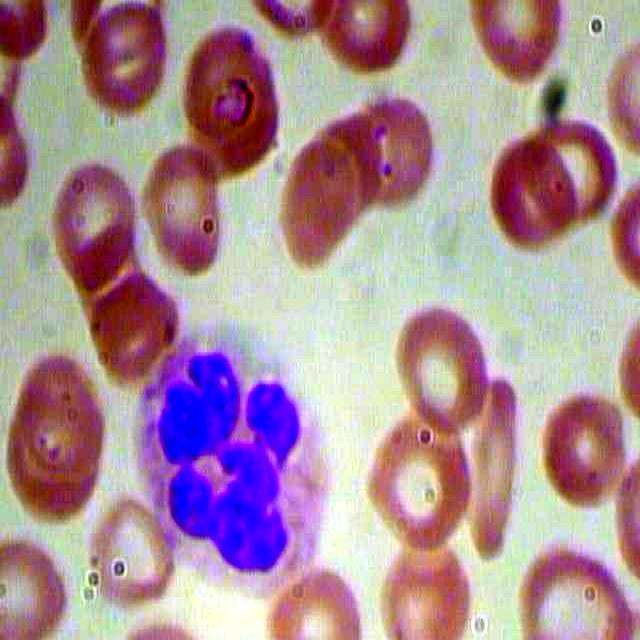RBC: (353, 412, 474, 555), (395, 296, 495, 429), (357, 89, 451, 219), (535, 385, 631, 511), (47, 154, 138, 282), (140, 140, 221, 281), (529, 116, 628, 231), (483, 128, 577, 248), (11, 407, 102, 529), (19, 343, 105, 469), (83, 496, 177, 608), (283, 136, 358, 275), (469, 362, 518, 558)
WBC: (127, 335, 343, 585)
